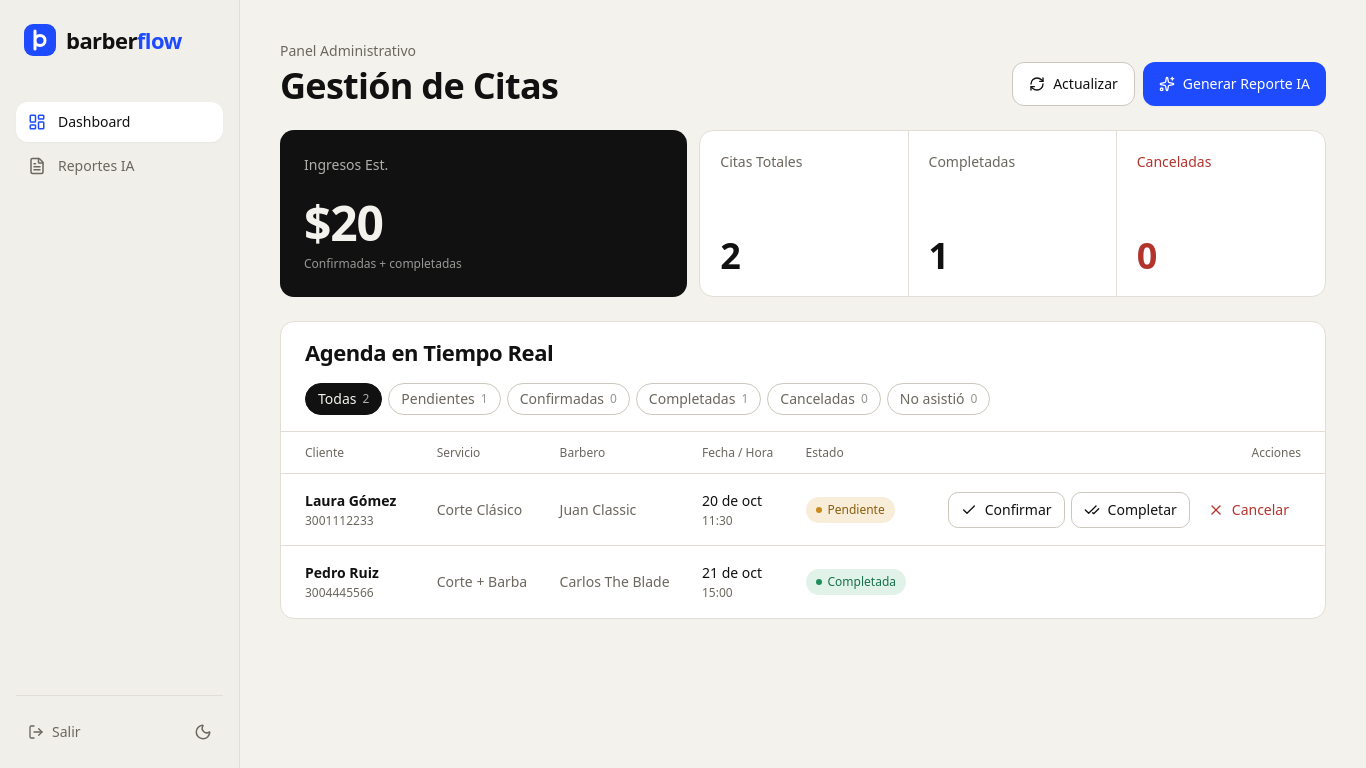
Test: admin › filtra por estado
Check: the text "Laura Gómez" is shown, box [305, 490, 396, 512]
Click the button "Completadas 1". click: (699, 399)
box: [636, 383, 761, 415]
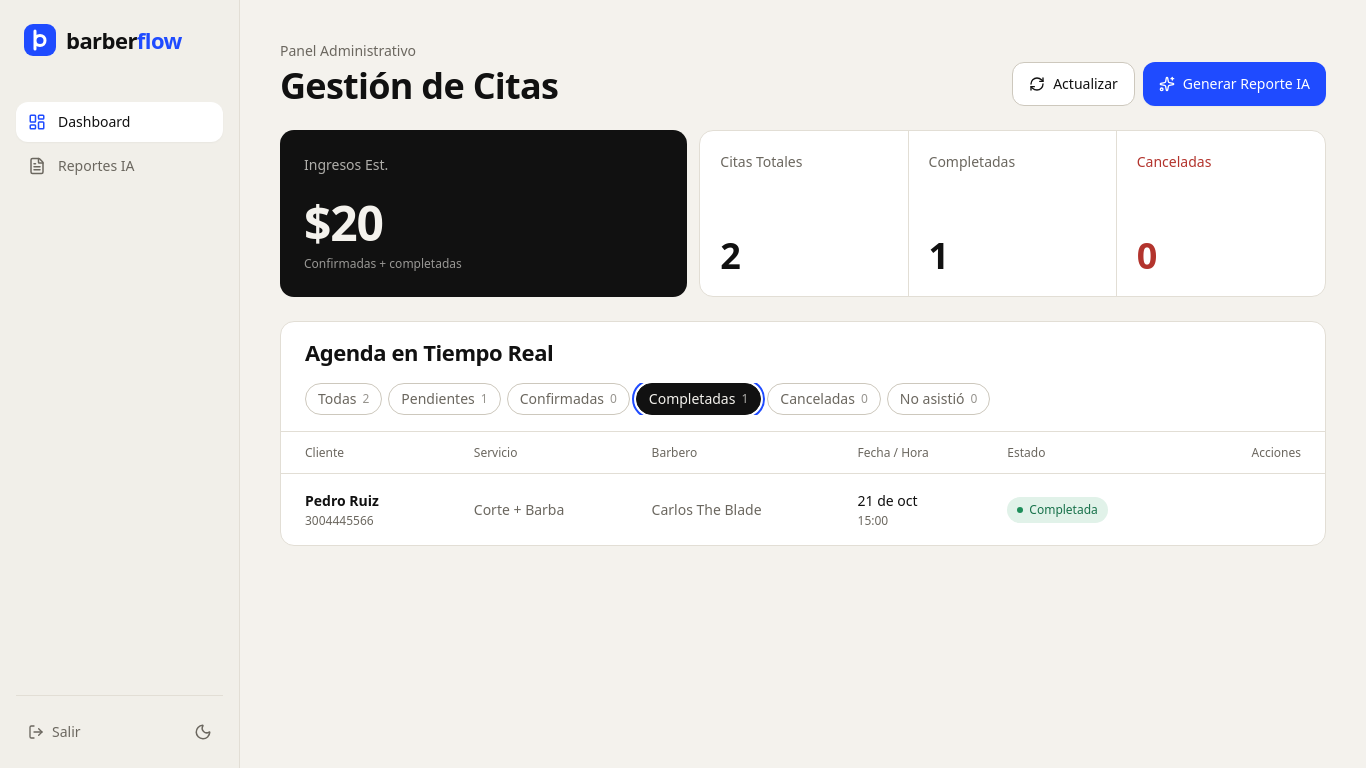
Check: the text "Pedro Ruiz" is shown, box [305, 490, 379, 512]
Check: the text "Laura Gómez" is gone
